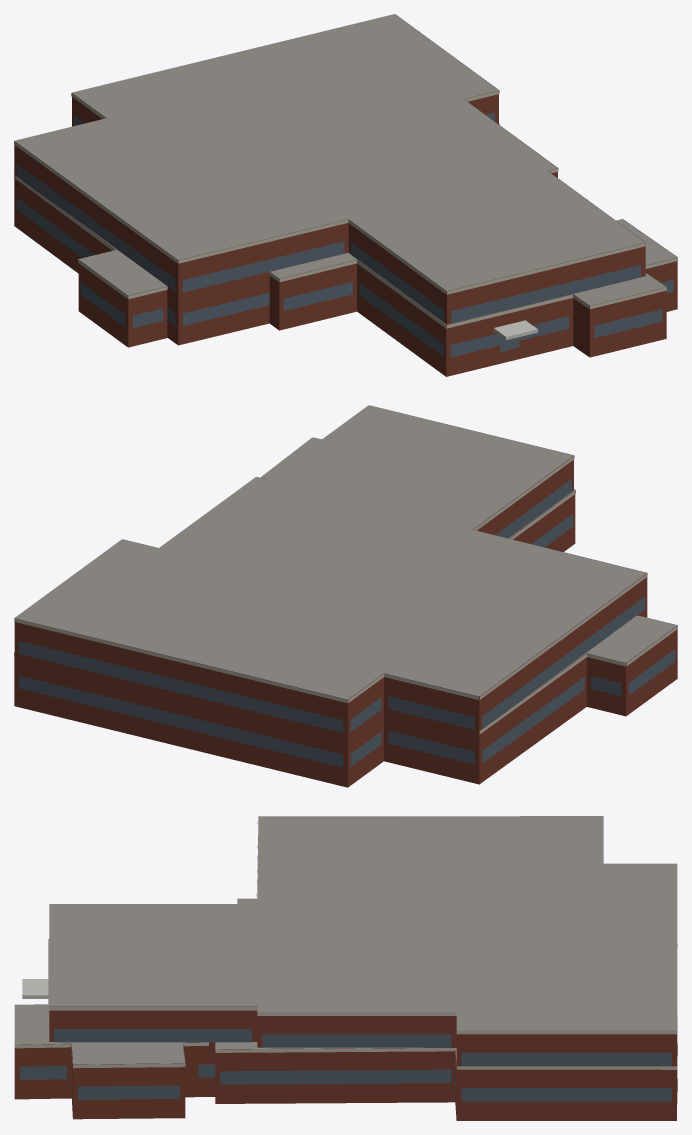
The model's file is temple-bnai-israel-1975.glb.
The picture shows the model from 3 angles, top to bottom: view 1: azimuth 30°, elevation 25°; view 2: azimuth 150°, elevation 25°; view 3: azimuth 270°, elevation 25°; orthographic projection. The views are drawn at different scales.
Visible parts, largest first — view 1: temple_bnai_israel_1975; view 2: temple_bnai_israel_1975; view 3: temple_bnai_israel_1975.
Boxes of the visible parts, x1,y1,x2,y2 form: temple_bnai_israel_1975: (14, 14, 677, 376); temple_bnai_israel_1975: (14, 405, 677, 787); temple_bnai_israel_1975: (14, 816, 677, 1120).
Size of the model in its own units: 64.16 by 11.48 by 76.61.
